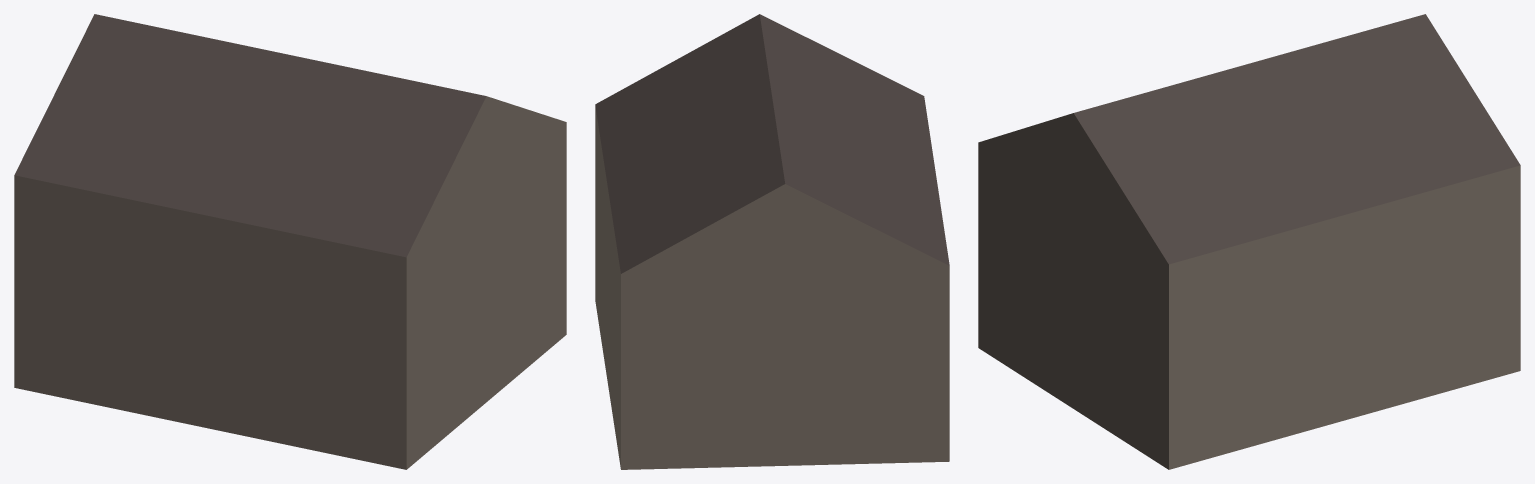
3 views of the same model, side by side, from view 1: azimuth 30°, elevation 25°; view 2: azimuth 150°, elevation 25°; view 3: azimuth 270°, elevation 25° (orthographic). The views are drawn at different scales.
Visible parts, largest first — view 1: HP-w369237915; view 2: HP-w369237915; view 3: HP-w369237915.
Part boxes in pixels (x1,y1,x2,y2): HP-w369237915: (14,14,566,469); HP-w369237915: (595,14,949,469); HP-w369237915: (978,14,1520,469).
Bounding box in the file's own units: 13.84 × 8.64 × 14.36.
